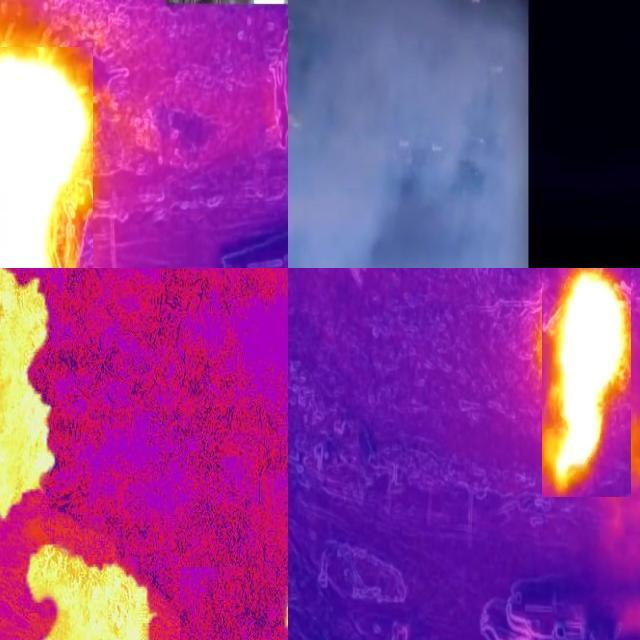fire: (1, 269, 80, 551), (1, 48, 94, 269), (543, 269, 632, 498), (21, 541, 161, 640)
